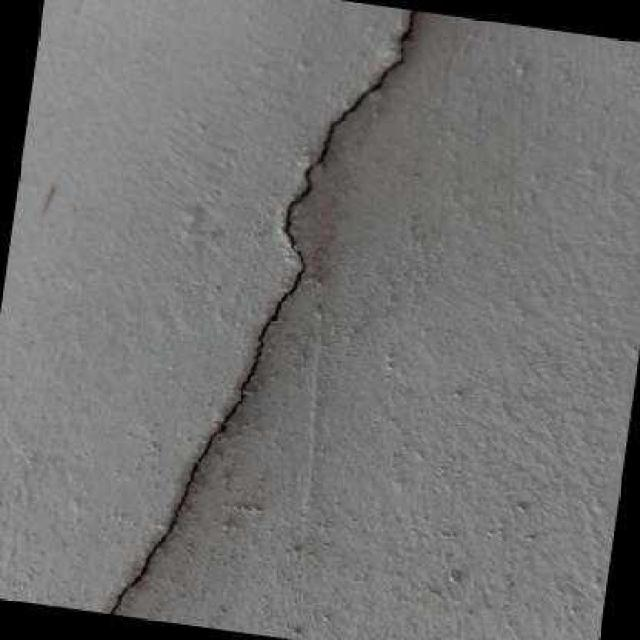D00: (106, 9, 417, 614)
